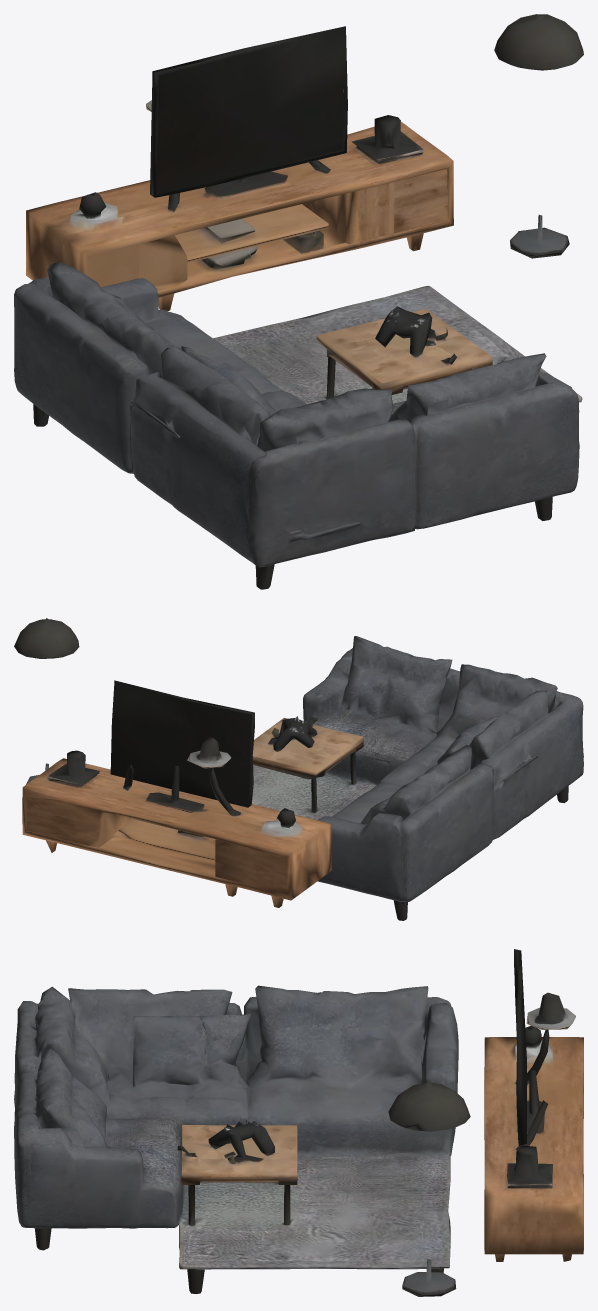
Rendered from living_room_set.glb.
The picture shows the model from 3 angles, top to bottom: view 1: azimuth 30°, elevation 25°; view 2: azimuth 150°, elevation 25°; view 3: azimuth 270°, elevation 25°; orthographic projection. The views are drawn at different scales.
Parts seen in each view (by area): view 1: tripo_node_1dd6d9f5-f36a-4533-b9fa-0ff956d6b259; view 2: tripo_node_1dd6d9f5-f36a-4533-b9fa-0ff956d6b259; view 3: tripo_node_1dd6d9f5-f36a-4533-b9fa-0ff956d6b259.
Part boxes in pixels (left/top/right/bottom): tripo_node_1dd6d9f5-f36a-4533-b9fa-0ff956d6b259: left=14, top=14, right=583, bottom=589; tripo_node_1dd6d9f5-f36a-4533-b9fa-0ff956d6b259: left=14, top=618, right=583, bottom=920; tripo_node_1dd6d9f5-f36a-4533-b9fa-0ff956d6b259: left=14, top=949, right=583, bottom=1296.
Bounding box in the file's own units: 4.2 × 2.09 × 4.19.
1 material, 1 textured.
